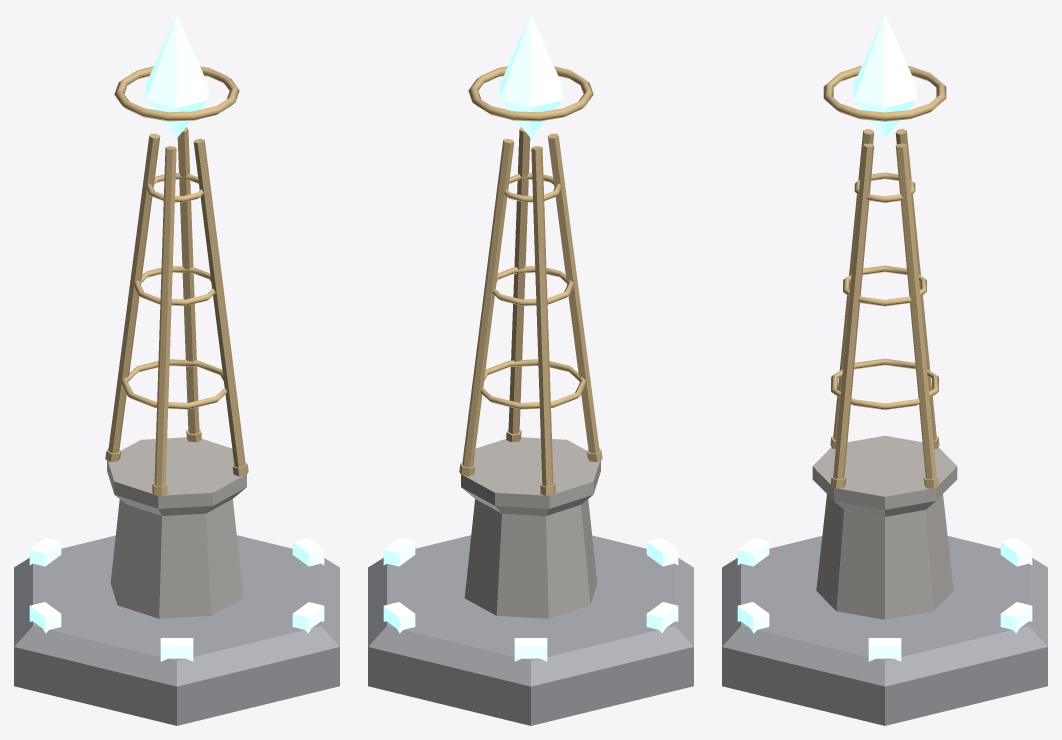
File: relay.glb
3 views of the same model, side by side, from view 1: azimuth 30°, elevation 25°; view 2: azimuth 150°, elevation 25°; view 3: azimuth 270°, elevation 25° (orthographic).
Parts seen in each view (by area): view 1: relay; view 2: relay; view 3: relay.
Part boxes in pixels (x1=…): relay: x1=14, y1=14, x2=339, y2=725; relay: x1=368, y1=14, x2=693, y2=725; relay: x1=722, y1=14, x2=1047, y2=725.
Bounding box in the file's own units: 10.4 × 19.3 × 9.01.
